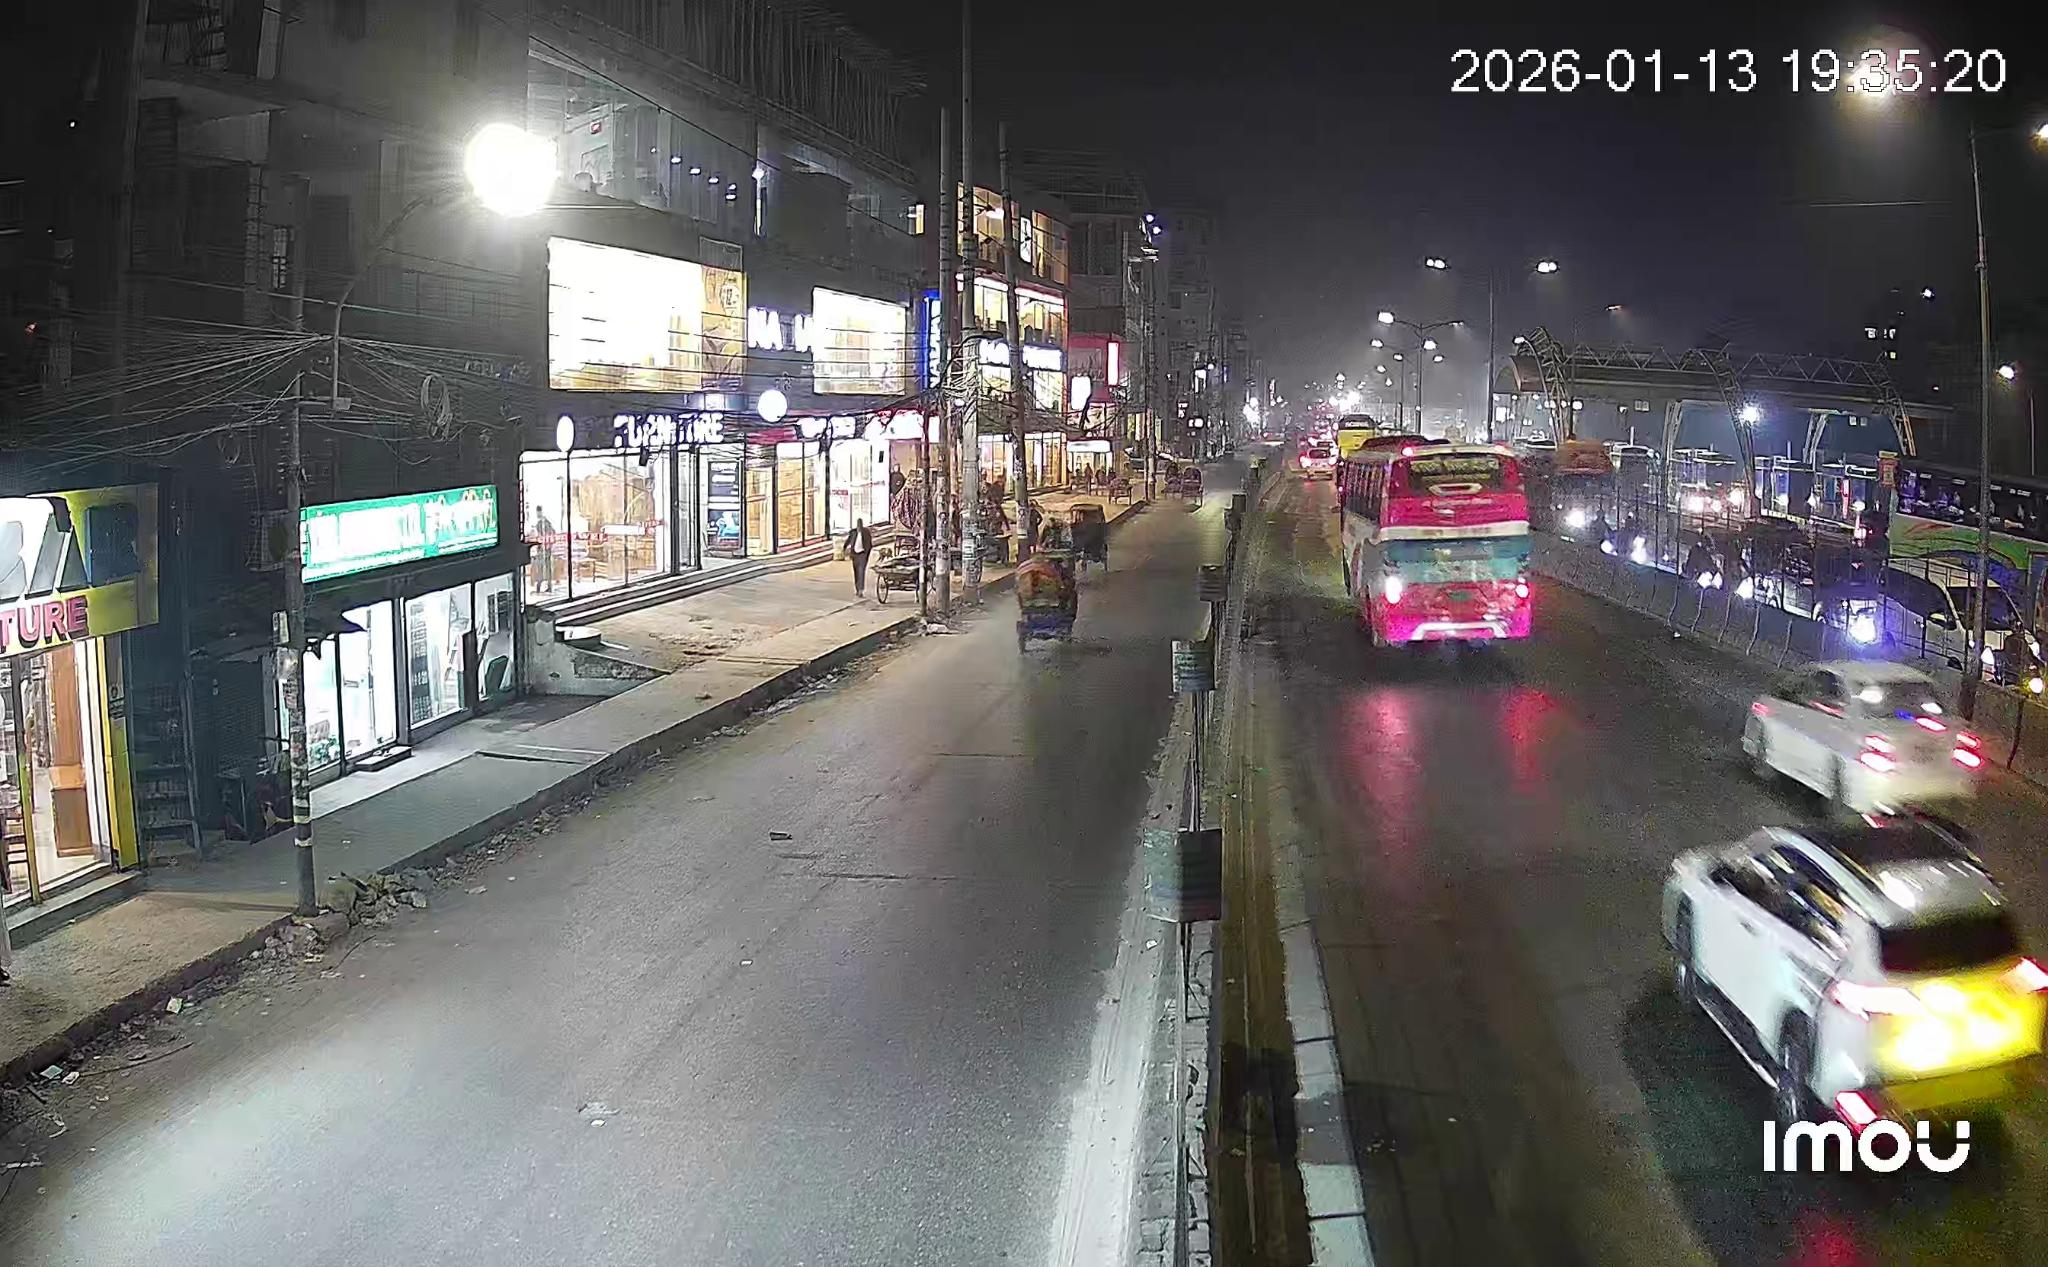Bus: (1335, 437, 1534, 646), (299, 165, 338, 230)
Cycle Rickshaw: (1013, 550, 1078, 653)
Private-Sedan Car: (1662, 814, 2047, 1144), (1742, 661, 1985, 813)
